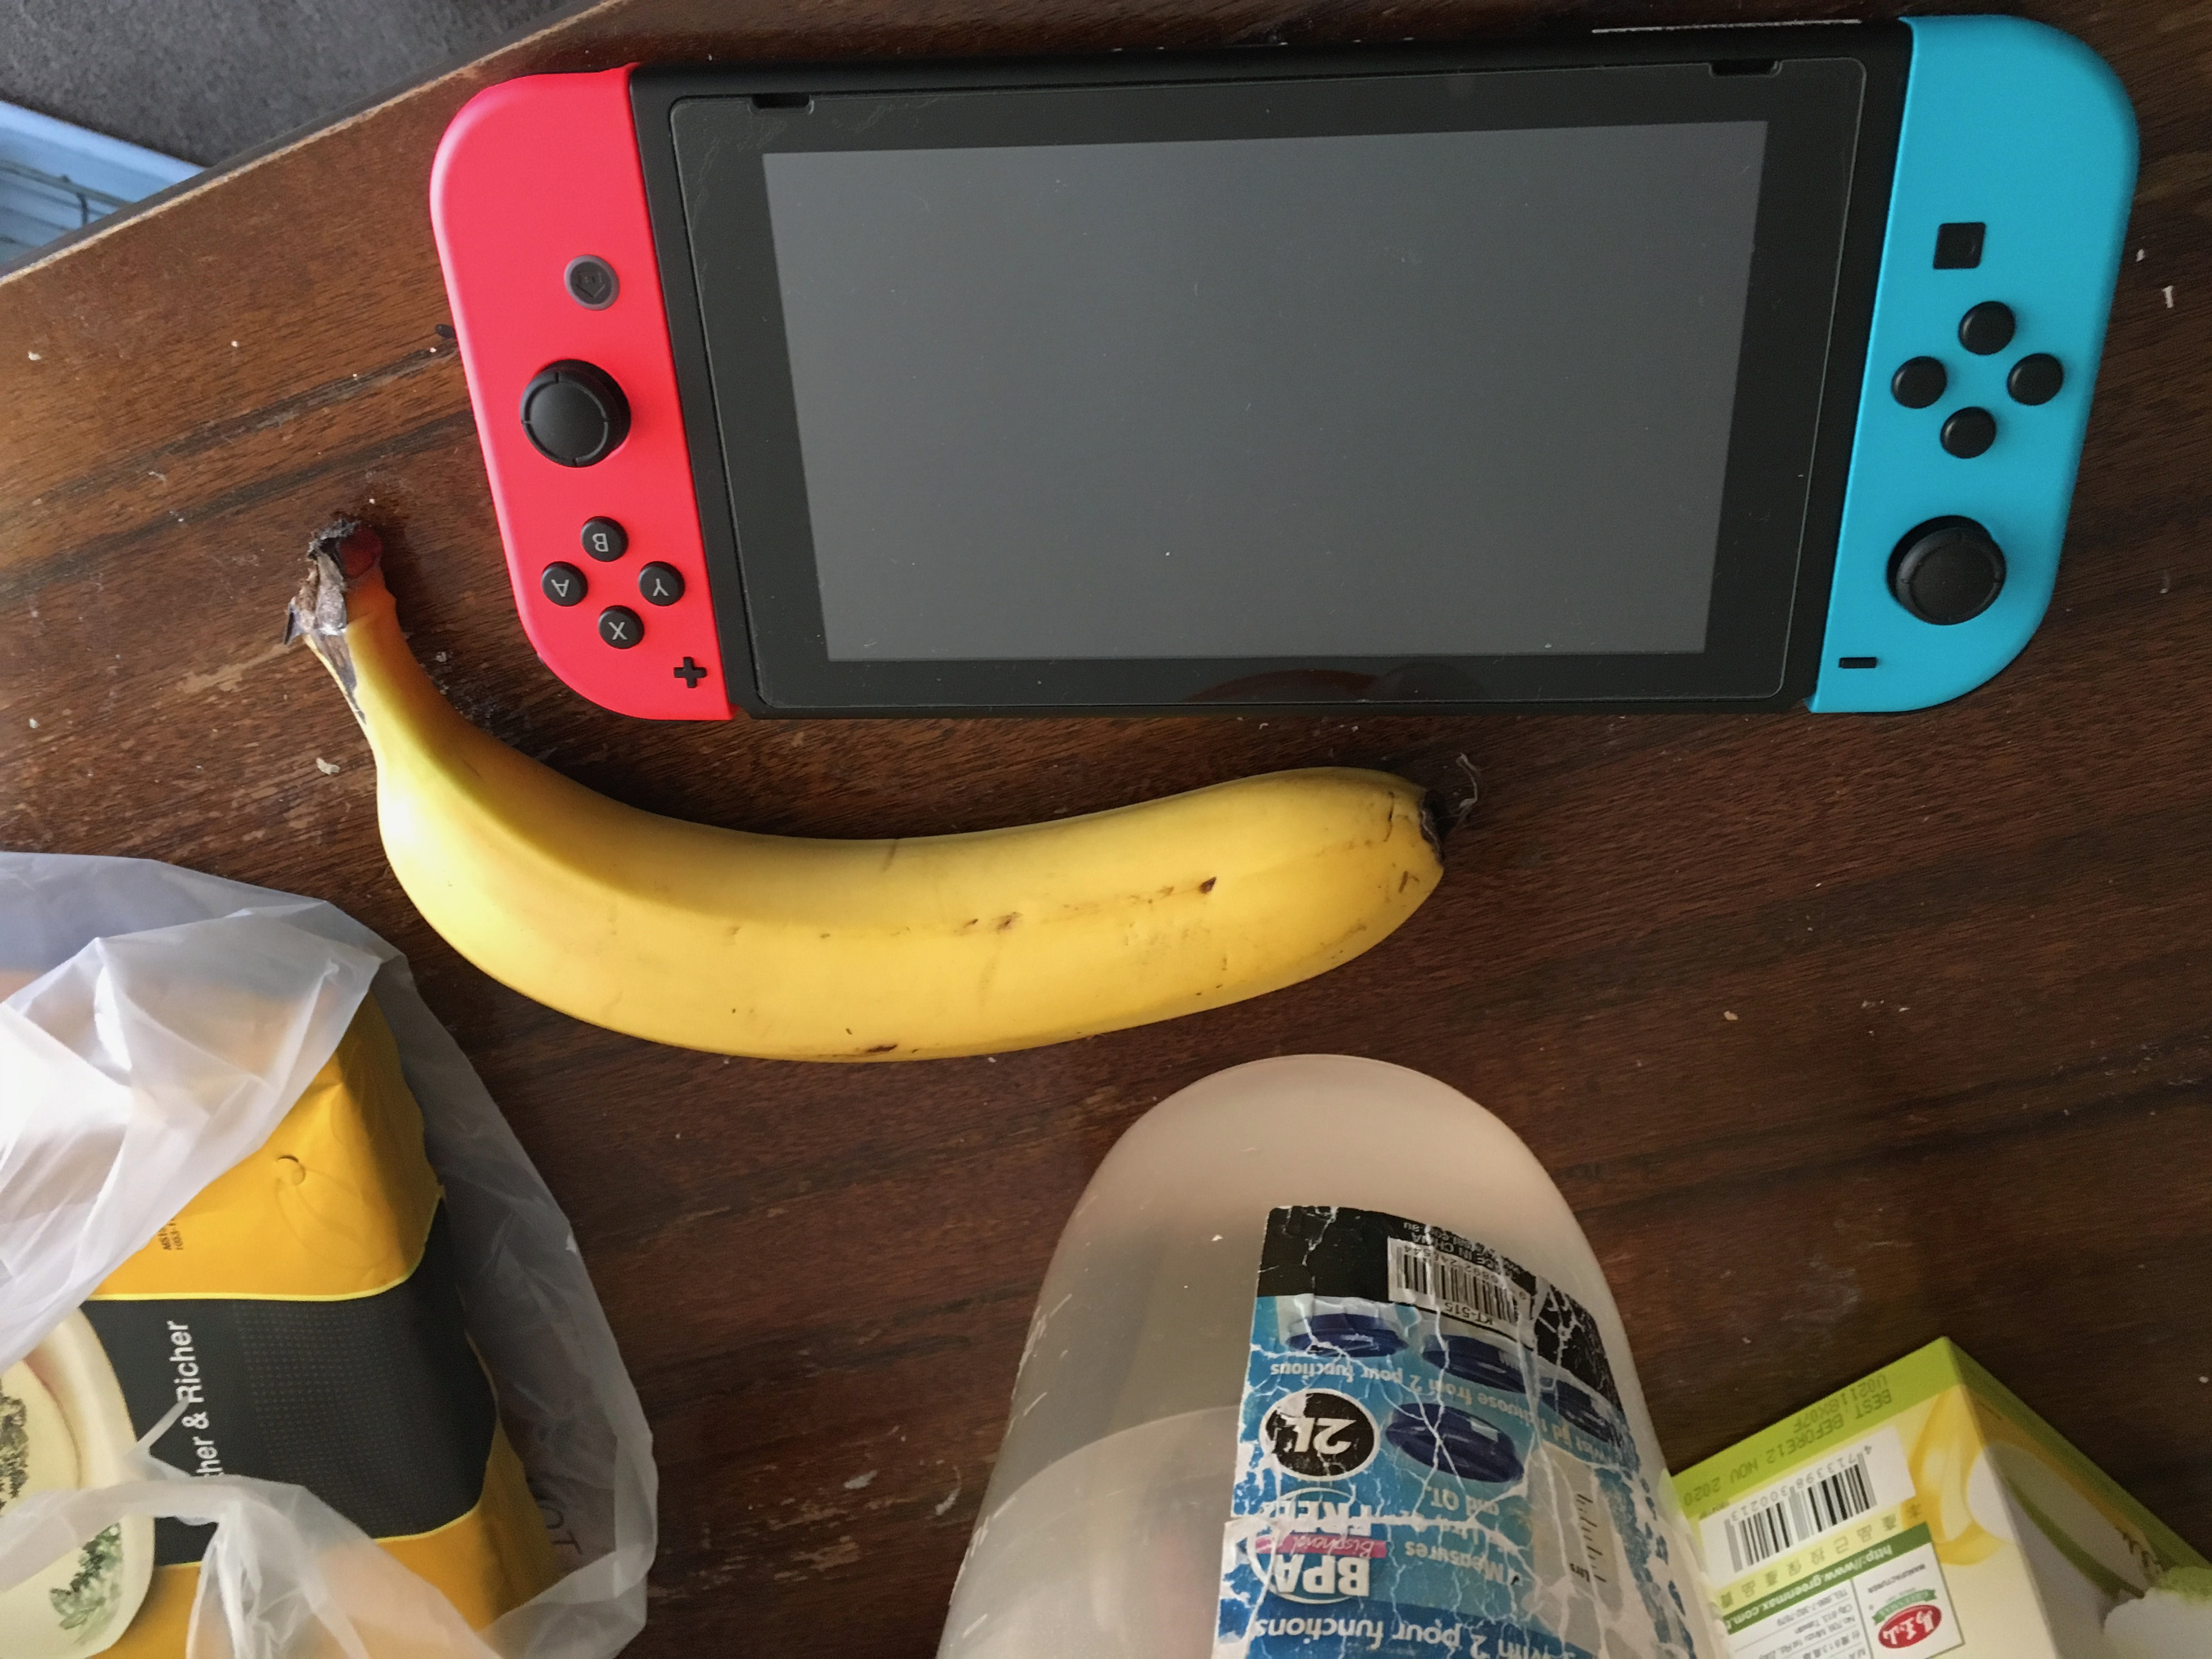NintendoSwitch: (408, 10, 2163, 728)
